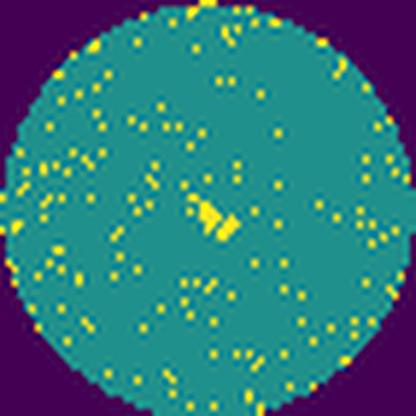Center: (198, 200, 245, 244)
